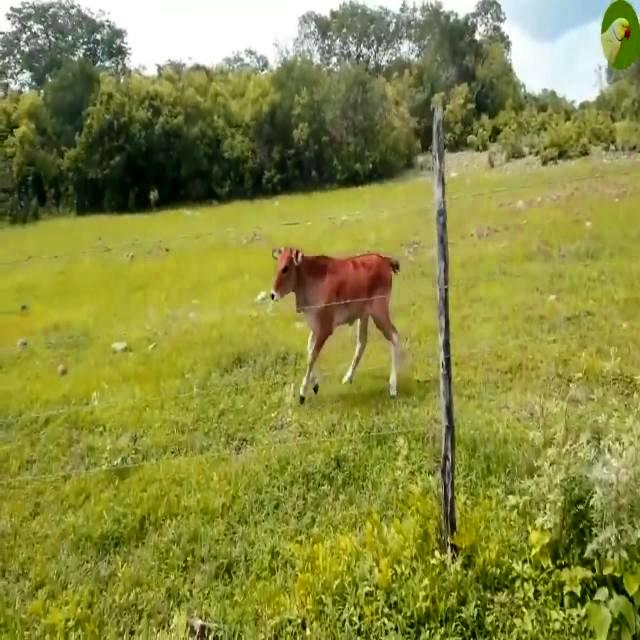COW: (272, 248, 399, 402)
